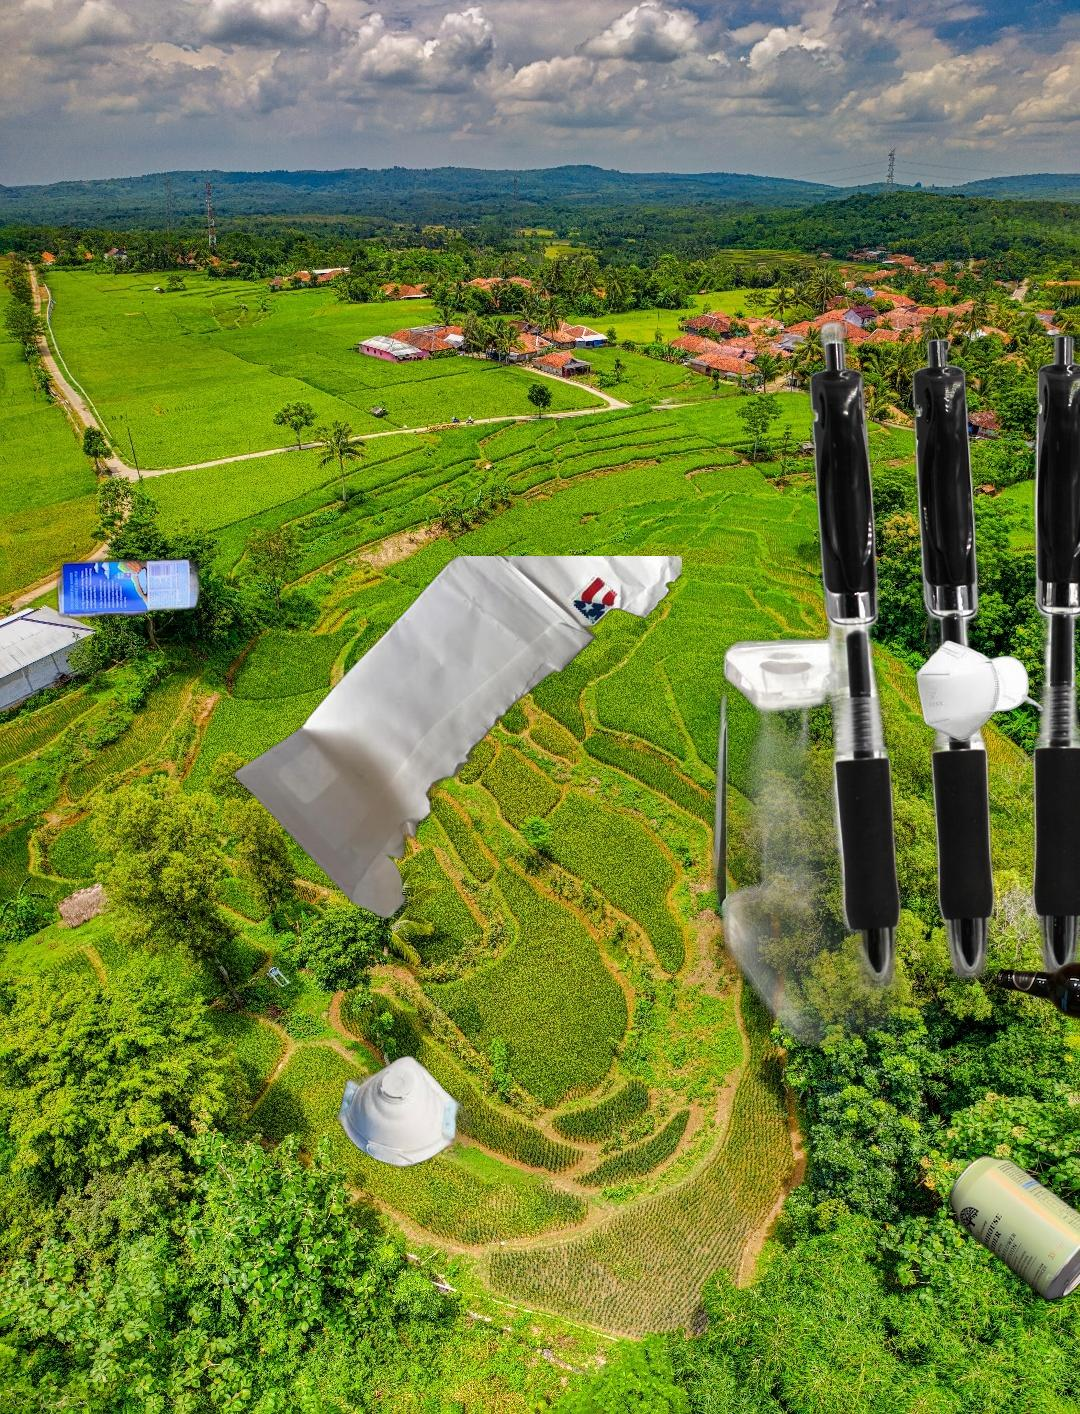glass: (993, 960, 1080, 1035)
metal-cans: (944, 1149, 1080, 1307)
paper: (229, 556, 682, 921)
penholder: (704, 312, 1080, 1055)
plastic-bottles: (5, 552, 275, 1099)
trash: (205, 1052, 480, 1201), (913, 640, 1047, 744)
